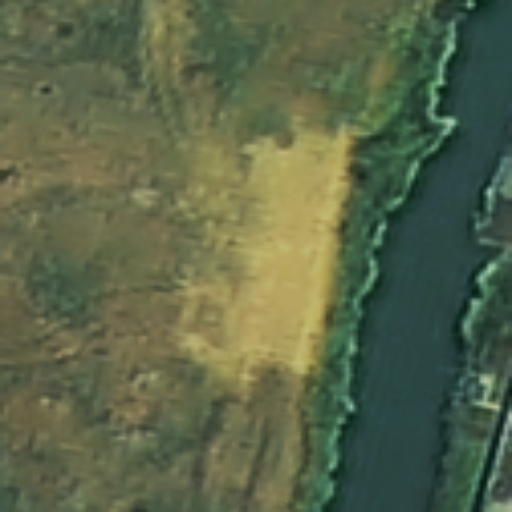landslide: (190, 133, 347, 376)
